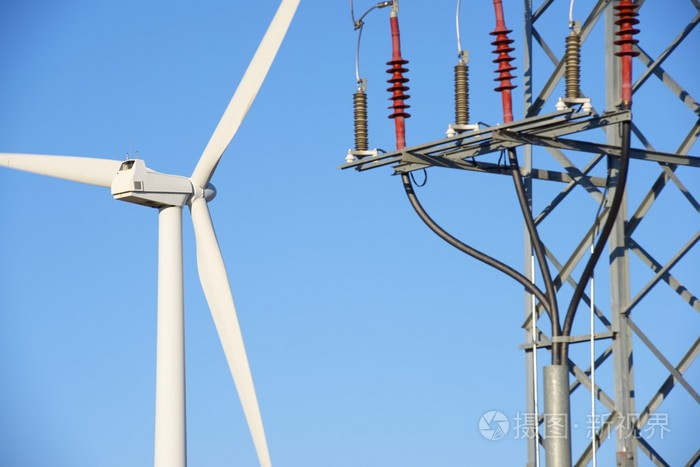insulator: (488, 26, 519, 94), (385, 57, 416, 124), (610, 3, 642, 59)
